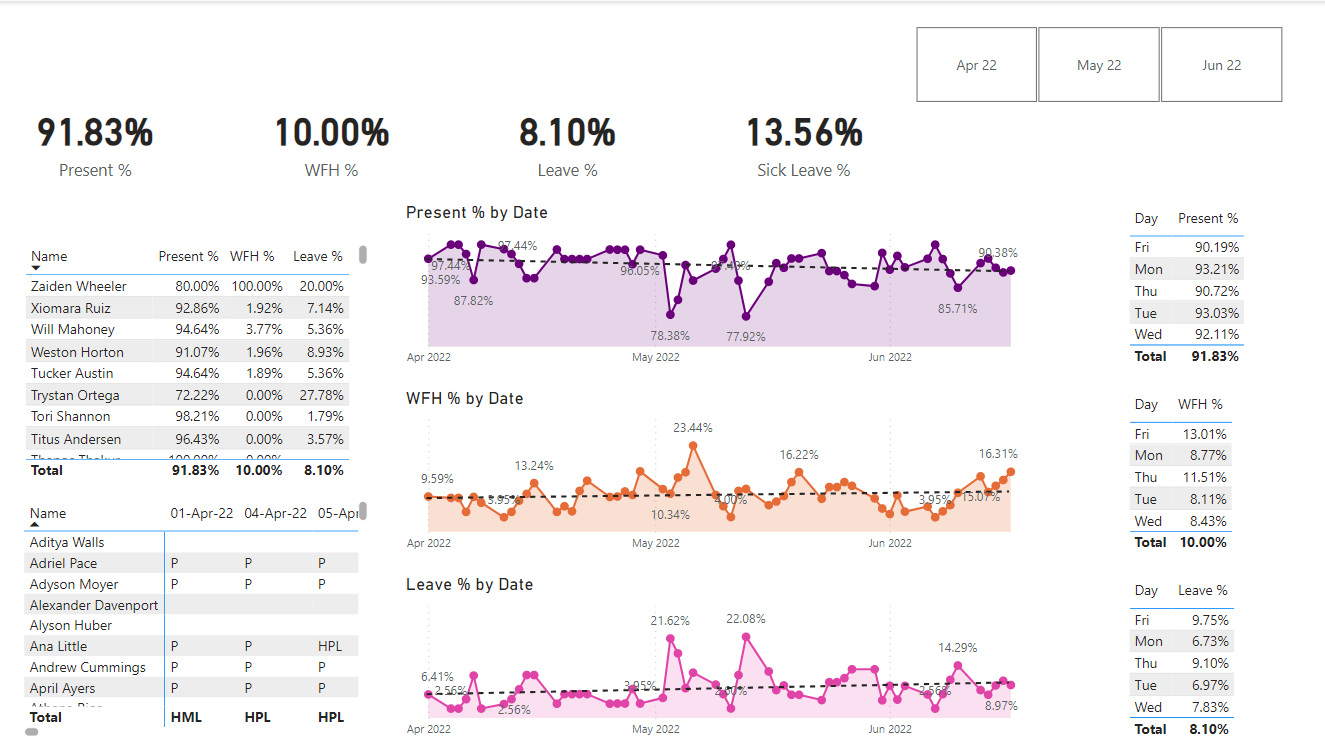

The dashboard page shown, as its layout file describes it:
{"tool":"powerbi","page":{"name":"Page 1","canvas":[1280,720],"ordinal":0},"visuals":[{"type":"card","fields":{"Values":["Key Measures.Present %"]},"box":[25.7,61.9,134.4,111.1],"z":0},{"type":"card","fields":{"Values":["Key Measures.WFH %"]},"box":[253.5,62,134.4,111.1],"z":1000},{"type":"card","fields":{"Values":["Key Measures.Sick Leave %"]},"box":[709.3,62.4,134.4,111.1],"z":2000},{"type":"slicer","fields":{"Values":["Final Data.mmmyy"]},"box":[927.1,79.7,341.6,92.8],"z":3000},{"type":"card","fields":{"Values":["Key Measures.Leave %"]},"box":[481.4,62.3,134.4,111.1],"z":4000},{"type":"tableEx","fields":{"Values":["Final Data.Name","Key Measures.Present %","Key Measures.WFH %","Key Measures.Leave %"]},"box":[26.2,204.7,341.6,236.8],"z":5000},{"type":"pivotTable","fields":{"Rows":["Final Data.Name"],"Values":["Min(Final Data.Value)"],"Columns":["Final Data.Date"]},"box":[17.9,467.7,341.6,236.8],"z":6000},{"type":"areaChart","fields":{"Category":["Final Data.Date"],"Y":["Key Measures.Present %"]},"box":[388,202.3,697.4,158.3],"z":7000},{"type":"tableEx","fields":{"Values":["Final Data.Day","Key Measures.Present %"]},"box":[1119.9,192.8,128.5,167.8],"z":10000},{"type":"tableEx","fields":{"Values":["Final Data.Day","Key Measures.WFH %"]},"box":[1119.9,371.3,128.5,167.8],"z":11000},{"type":"tableEx","fields":{"Values":["Final Data.Day","Key Measures.Leave %"]},"box":[1119.9,543.9,128.5,167.8],"z":12000},{"type":"areaChart","fields":{"Category":["Final Data.Date"],"Y":["Key Measures.WFH %"]},"box":[388,372.5,697.4,167.8],"z":12001},{"type":"areaChart","fields":{"Category":["Final Data.Date"],"Y":["Key Measures.Leave %"]},"box":[388,552.2,697.4,152.3],"z":12002},{"type":"textbox","box":[194,0,892.6,46.4],"z":12003}]}

Visuals, with their boxes in screenshot pixels (x1, y1, x2, y2), scaled from the page's 1280x720 canvas onto the 1325x747 screenshot:
card - Key Measures.Present %: bbox=(27, 64, 166, 179)
card - Key Measures.WFH %: bbox=(262, 64, 402, 180)
card - Key Measures.Sick Leave %: bbox=(734, 65, 873, 180)
slicer - Final Data.mmmyy: bbox=(960, 83, 1313, 179)
card - Key Measures.Leave %: bbox=(498, 65, 637, 180)
tableEx - Final Data.Name x Key Measures.Present %: bbox=(27, 212, 381, 458)
pivotTable - Final Data.Name x Min(Final Data.Value): bbox=(19, 485, 372, 731)
areaChart - Final Data.Date x Key Measures.Present %: bbox=(402, 210, 1124, 374)
tableEx - Final Data.Day x Key Measures.Present %: bbox=(1159, 200, 1292, 374)
tableEx - Final Data.Day x Key Measures.WFH %: bbox=(1159, 385, 1292, 559)
tableEx - Final Data.Day x Key Measures.Leave %: bbox=(1159, 564, 1292, 738)
areaChart - Final Data.Date x Key Measures.WFH %: bbox=(402, 386, 1124, 561)
areaChart - Final Data.Date x Key Measures.Leave %: bbox=(402, 573, 1124, 731)
textbox: bbox=(201, 0, 1125, 48)
